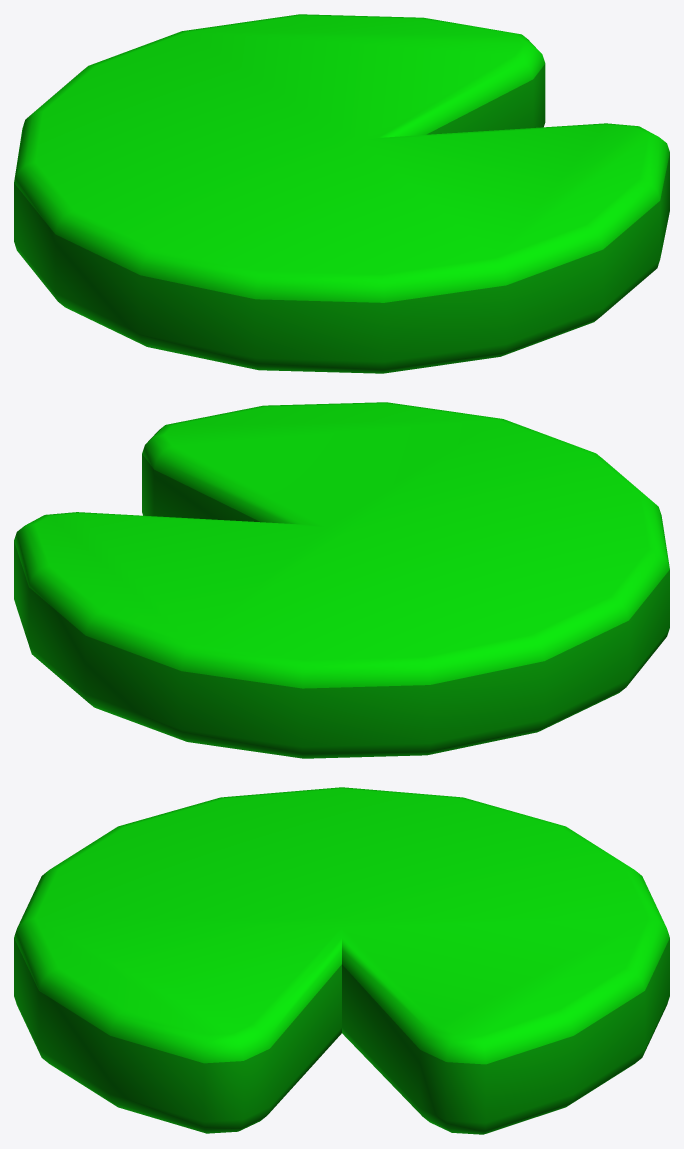
Rendered from Moss.fbx.
3 views of the same model, one above another, from view 1: azimuth 30°, elevation 25°; view 2: azimuth 150°, elevation 25°; view 3: azimuth 270°, elevation 25° (orthographic).
Parts seen in each view (by area): view 1: Moss; view 2: Moss; view 3: Moss.
Boxes of the visible parts, x1=… form: Moss: x1=14, y1=14, x2=669, y2=373; Moss: x1=14, y1=402, x2=669, y2=758; Moss: x1=14, y1=787, x2=669, y2=1134.
Size of the model in its own units: 44.88 by 7.67 by 46.88.
